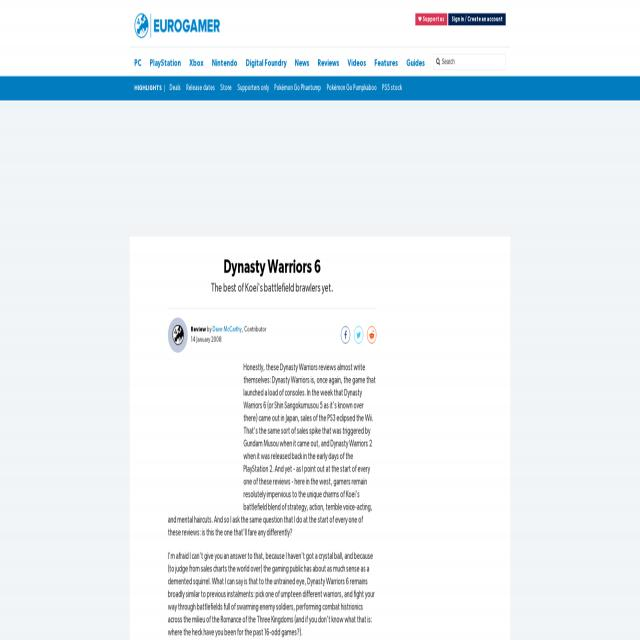button: (134, 13, 220, 38), (246, 47, 287, 76), (150, 47, 181, 76), (212, 47, 237, 76), (168, 318, 188, 353), (448, 13, 506, 25), (374, 47, 398, 76), (318, 47, 339, 76), (406, 47, 425, 76), (348, 48, 366, 76), (295, 47, 309, 76), (416, 13, 448, 25), (190, 47, 203, 76), (134, 47, 142, 76), (367, 326, 377, 344), (341, 326, 350, 344), (354, 326, 363, 344)
field: (433, 54, 505, 70)
